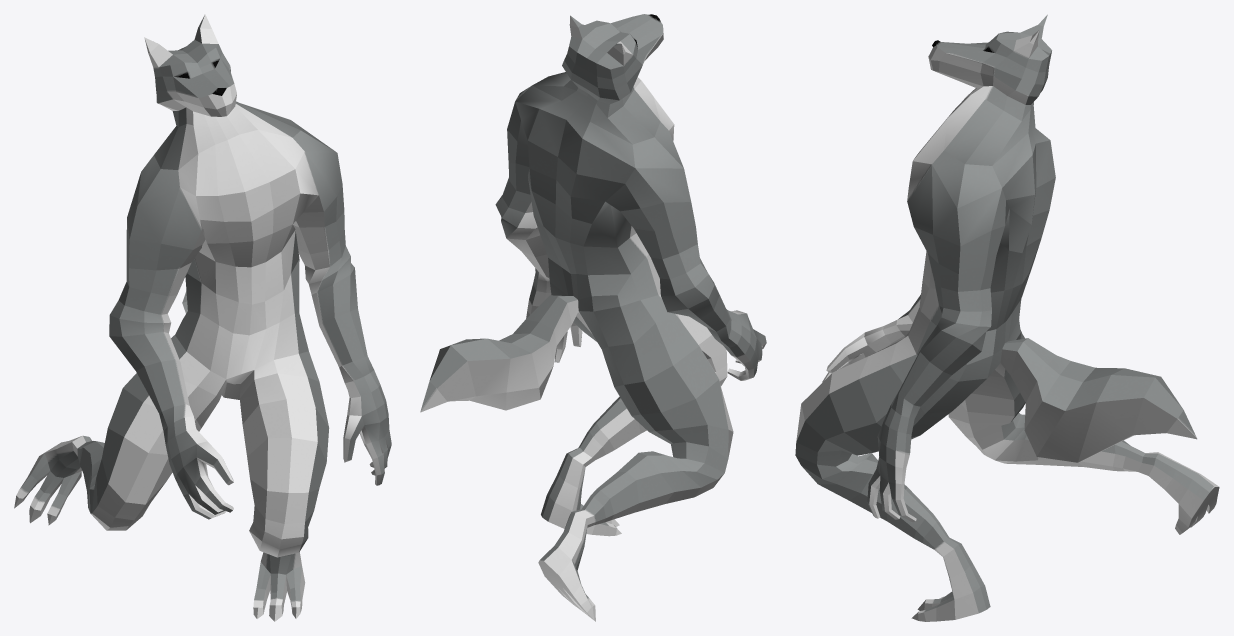
The model's file is WolfDead(20).obj.
3 renders of one model, left to right at view 1: azimuth 30°, elevation 25°; view 2: azimuth 150°, elevation 25°; view 3: azimuth 270°, elevation 25°, orthographic. The views are drawn at different scales.
Parts seen in each view (by area): view 1: Box001; view 2: Box001; view 3: Box001.
Boxes of the visible parts, x1,y1,x2,y2 form: Box001: [14, 14, 391, 621]; Box001: [420, 14, 766, 621]; Box001: [795, 14, 1219, 621].
Size of the model in its own units: 63.71 by 137 by 91.6.
